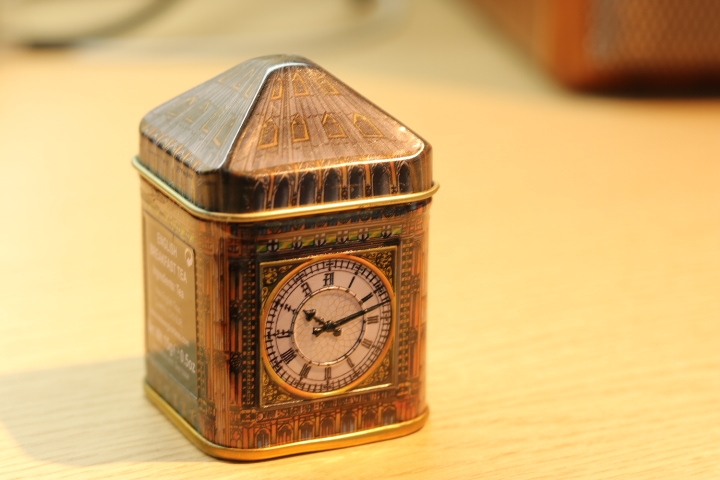Big Ben: (126, 39, 459, 476)
